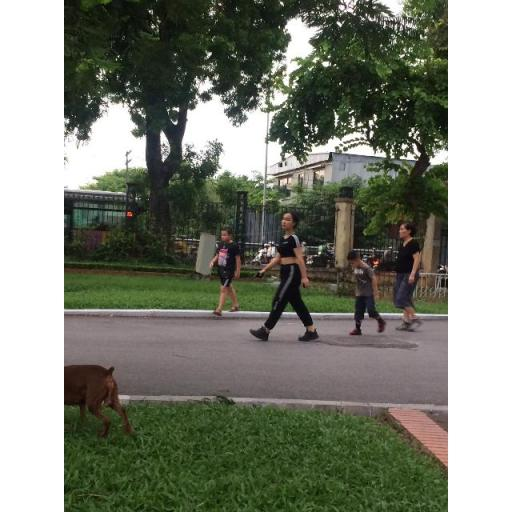Running: (249, 204, 325, 347), (342, 246, 386, 340)
